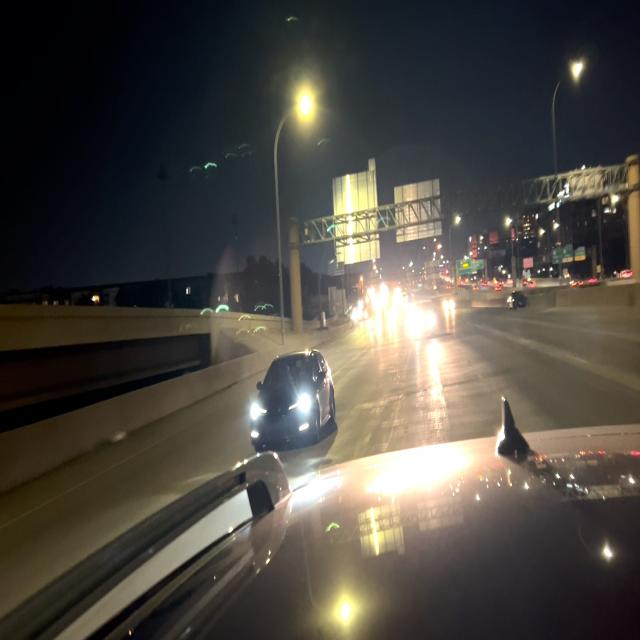back-of-sign: (332, 160, 381, 267), (393, 177, 443, 247)
